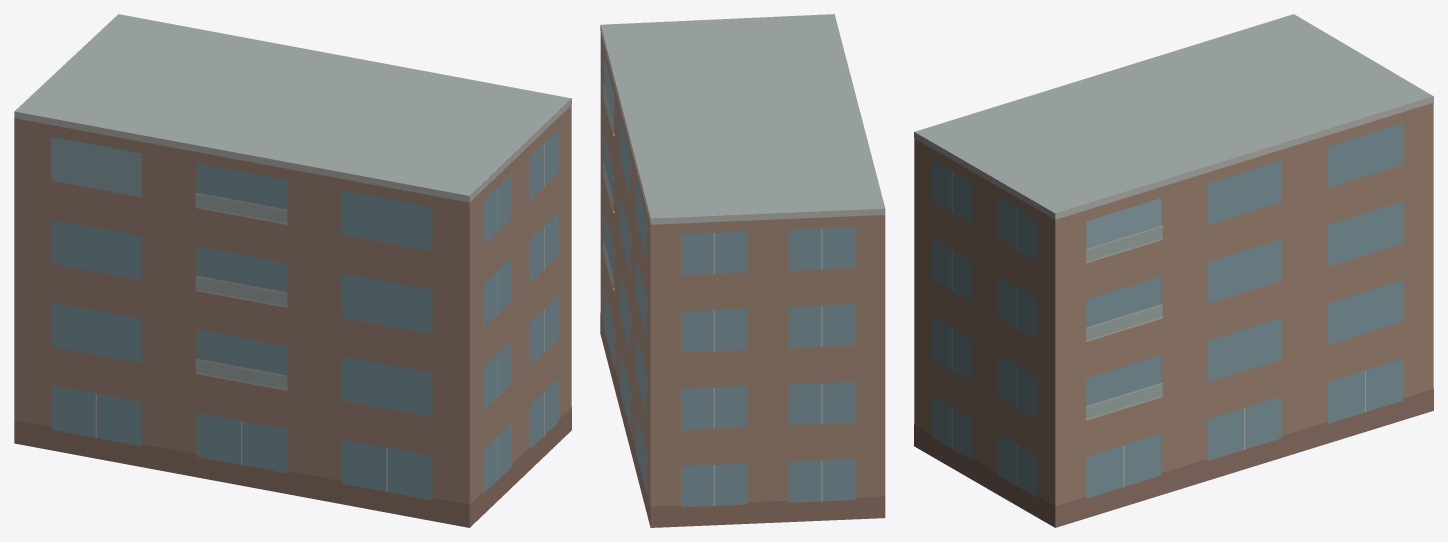
File: survey-upis-32905385.glb
3 renders of one model, left to right at view 1: azimuth 30°, elevation 25°; view 2: azimuth 150°, elevation 25°; view 3: azimuth 270°, elevation 25°, orthographic. The views are drawn at different scales.
Visible parts, largest first — view 1: survey-upis-32905385.tmp; view 2: survey-upis-32905385.tmp; view 3: survey-upis-32905385.tmp.
Part boxes in pixels (x1,y1,x2,y2): survey-upis-32905385.tmp: (14, 14, 571, 527); survey-upis-32905385.tmp: (600, 14, 885, 527); survey-upis-32905385.tmp: (914, 14, 1433, 527).
Size of the model in its own units: 16.61 by 12.2 by 18.28.
